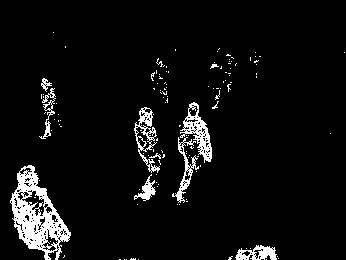person: (11, 165, 72, 260), (177, 102, 213, 205), (132, 107, 165, 203), (37, 76, 67, 140)
